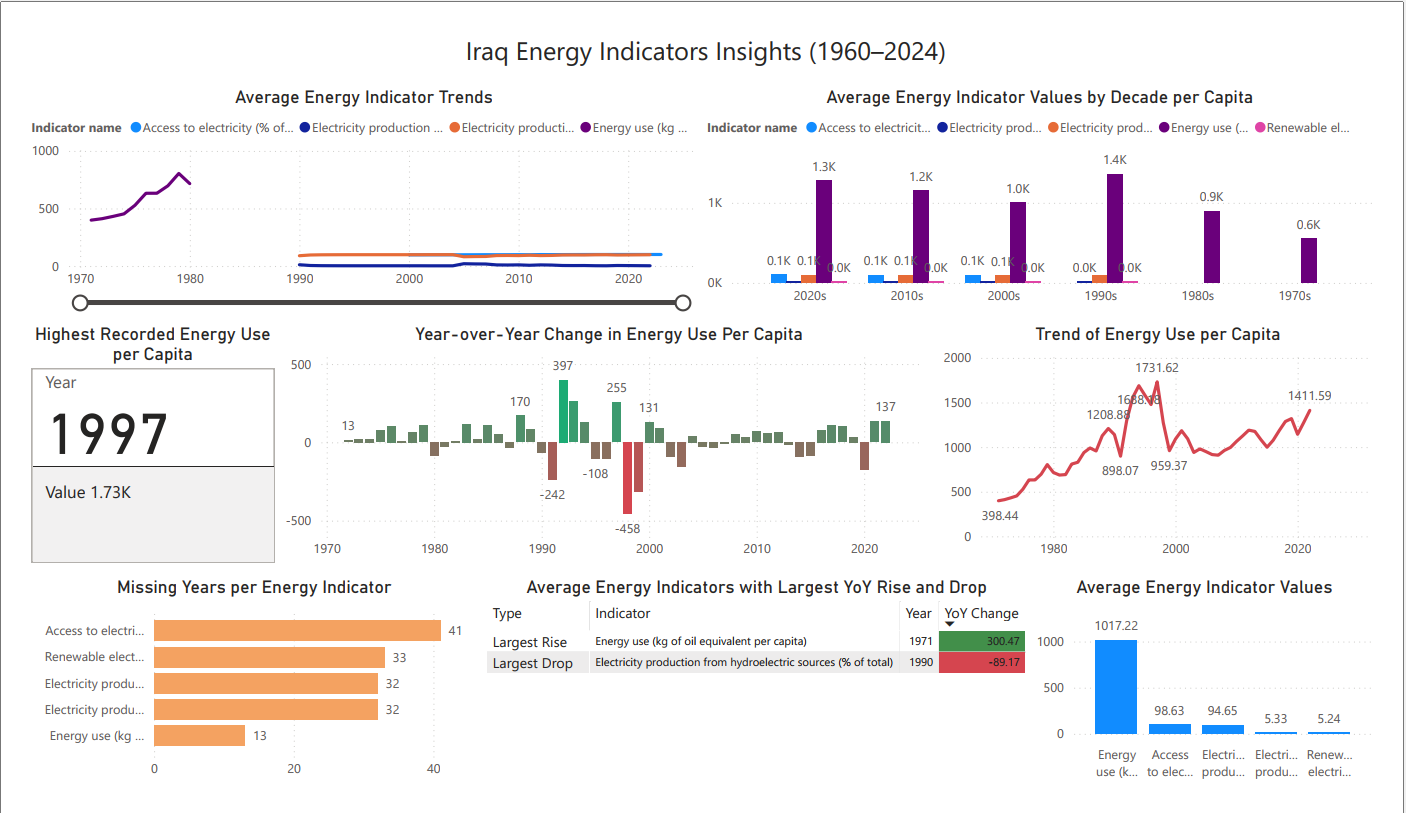

The dashboard page shown, as its layout file describes it:
{"tool":"powerbi","page":{"name":"Energy Indicators Insights","canvas":[1280,720],"ordinal":1},"visuals":[{"type":"lineChart","title":"Average Energy Indicator Trends","fields":{"Category":["Q1 What is the trend of energy indicators in Iraq from 1960 to 2024.year"],"Y":["Sum(Q1 What is the trend of energy indicators in Iraq from 1960 to 2024.avg_value)"],"Series":["Q1 What is the trend of energy indicators in Iraq from 1960 to 2024.indicator_name"]},"box":[0,56,640,216],"z":0},{"type":"clusteredColumnChart","title":"Average Energy Indicator Values by Decade per Capita ","fields":{"Series":["Q6 What was the average value of each energy indicator by decade in Iraq.indicator_name"],"Category":["Q6 What was the average value of each energy indicator by decade in Iraq.decade"],"Y":["Sum(Q6 What was the average value of each energy indicator by decade in Iraq.avg_value)"]},"box":[640,56,640,216],"z":1000},{"type":"cardVisual","title":"Highest Recorded Energy Use per Capita","fields":{"Data":["Sum(Q2 Which energy indicator had the highest single-year value and in which year.year)"]},"box":[0,280,240,232],"z":2000},{"type":"clusteredColumnChart","title":"Year-over-Year Change in Energy Use Per Capita","fields":{"Category":["Q9 What is the Year-over-Year (YoY) change in energy use per capita in Iraq.year"],"Y":["Sum(Q9 What is the Year-over-Year (YoY) change in energy use per capita in Iraq.yoy_change)"]},"box":[240,280,624,232],"z":3000},{"type":"lineChart","title":"Trend of Energy Use per Capita","fields":{"Category":["Q8 What is the trend of total energy usage per capita in Iraq over time.year"],"Y":["Sum(Q8 What is the trend of total energy usage per capita in Iraq over time.avg_energy_use_per_capita)"]},"box":[864,280,416,232],"z":4000},{"type":"columnChart","title":"Average Energy Indicator Values","fields":{"Category":["Q3 What is the average value for each energy indicator across all available year.indicator_name"],"Y":["Sum(Q3 What is the average value for each energy indicator across all available year.avg_value)"]},"box":[952,520,328,200],"z":5000},{"type":"clusteredBarChart","title":"Missing Years per Energy Indicator ","fields":{"Category":["Q7 How many years are missing (NULL values) for each energy indicator in Iraq.indicator_name"],"Y":["Sum(Q7 How many years are missing (NULL values) for each energy indicator in Iraq.null_count)"]},"box":[0,520,432,200],"z":6000},{"type":"pivotTable","title":"Average Energy Indicators with Largest YoY Rise and Drop","fields":{"Rows":["Q2_Energy_YoY_Summary.Type"],"Values":["Min(Q2_Energy_YoY_Summary.Indicator)","Sum(Q2_Energy_YoY_Summary.Year)","Sum(Q2_Energy_YoY_Summary.YoY Change)"]},"box":[432,520,520,200],"z":7000},{"type":"textbox","box":[352,0,584,56],"z":8000}]}

Visuals, with their boxes in screenshot pixels (x1, y1, x2, y2), scaled from the page's 1280x720 canvas onto the 1406x813 screenshot:
"Average Energy Indicator Trends" lineChart: 0,63,703,307
"Average Energy Indicator Values by Decade per Capita " clusteredColumnChart: 703,63,1405,307
"Highest Recorded Energy Use per Capita" cardVisual: 0,316,264,578
"Year-over-Year Change in Energy Use Per Capita" clusteredColumnChart: 264,316,949,578
"Trend of Energy Use per Capita" lineChart: 949,316,1405,578
"Average Energy Indicator Values" columnChart: 1046,587,1405,812
"Missing Years per Energy Indicator " clusteredBarChart: 0,587,475,812
"Average Energy Indicators with Largest YoY Rise and Drop" pivotTable: 475,587,1046,812
textbox: 387,0,1028,63
